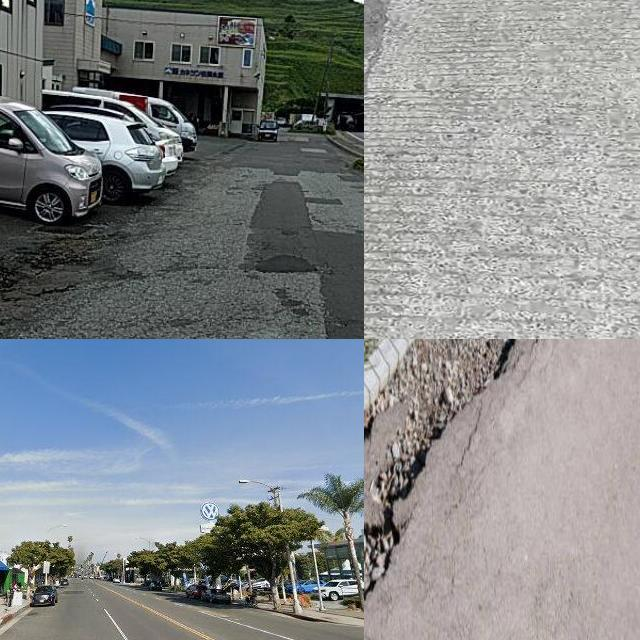Pinggir: (364, 339, 557, 625)
Sambungan: (364, 0, 640, 339)
